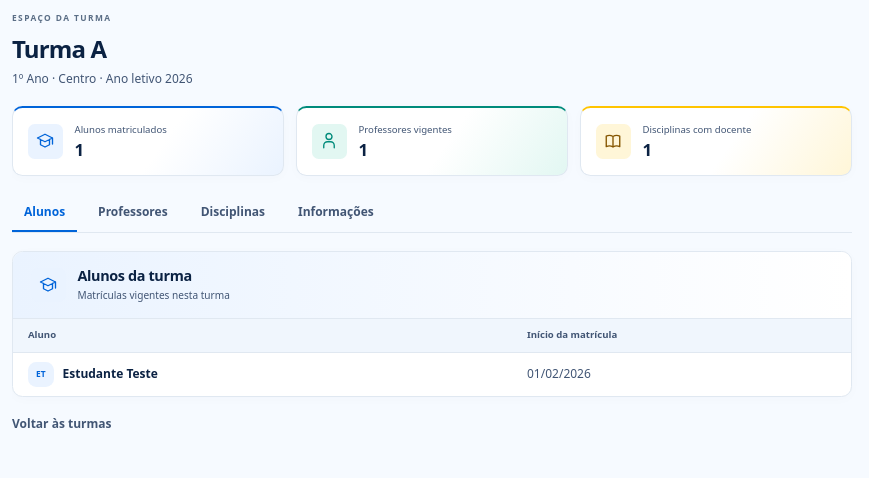
Scenario: Espaço da Turma › mostra cada professor uma vez e mantém as disciplinas e vigências separadas
Expected: the heading "Turma A" is shown, [12, 32, 106, 65]
Click the tab "Professores".
click(133, 213)  # box [86, 194, 180, 232]
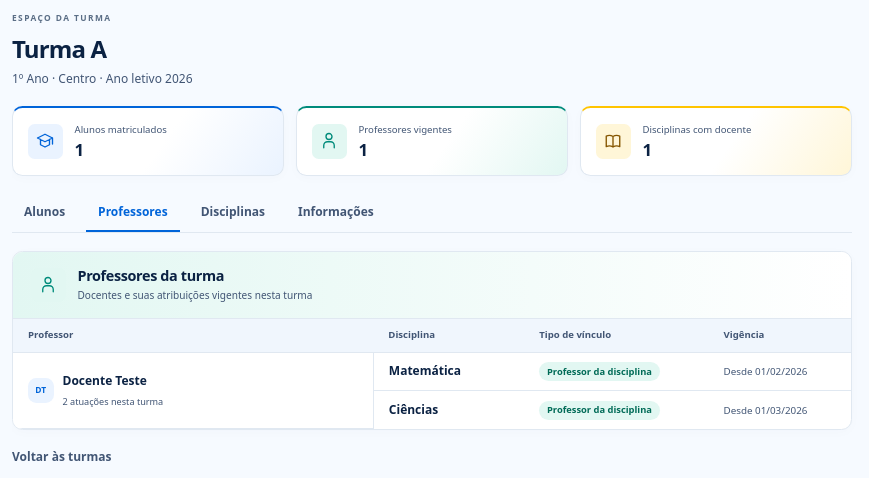
Now the number of rows is 3, box [13, 319, 851, 352]; [13, 352, 851, 391]; [13, 391, 851, 428]
Now the column heading "Tipo de vínculo" is shown, box [524, 319, 709, 352]
Now the text "Matemática" is shown, box [389, 362, 461, 379]
